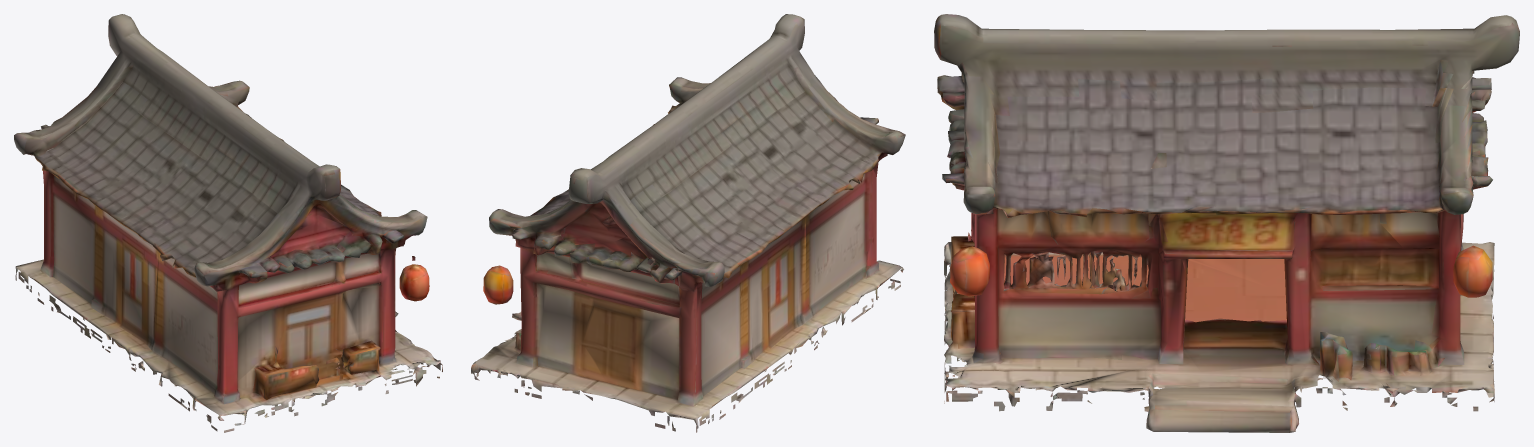
The model's file is bq_teashop.lod1.glb.
The picture shows the model from 3 angles, left to right: view 1: azimuth 30°, elevation 25°; view 2: azimuth 150°, elevation 25°; view 3: azimuth 270°, elevation 25°; orthographic projection. The views are drawn at different scales.
Bounding box in the file's own units: 1.42 × 1.2 × 2.
Materials: 1 (1 with a texture image).
